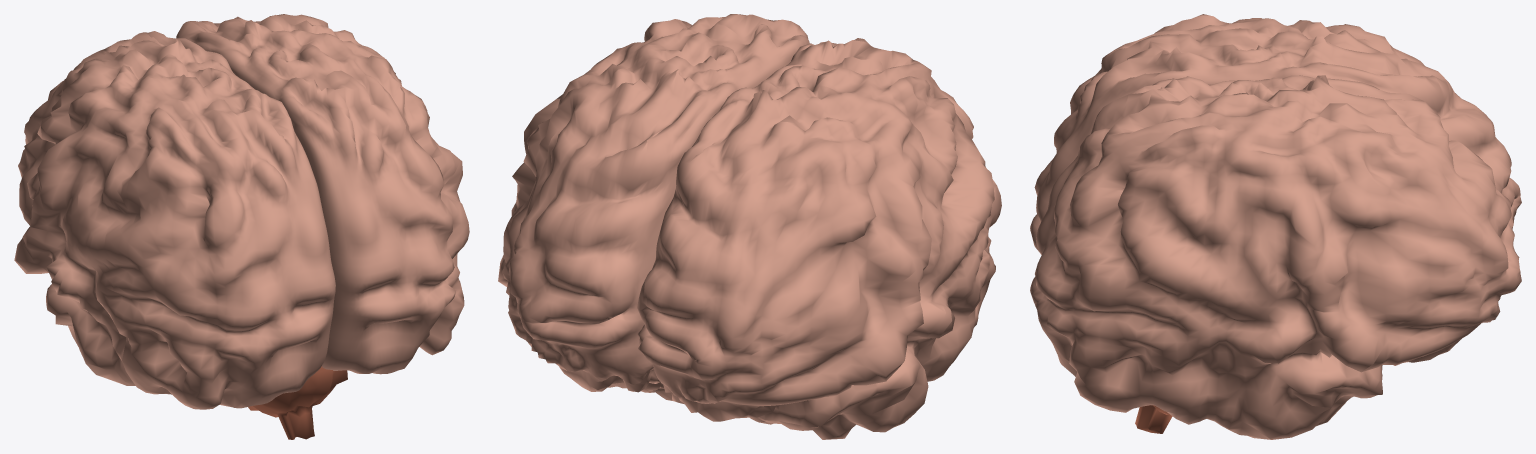
Rendered from Brain.fbx.
3 views of the same model, side by side, from view 1: azimuth 30°, elevation 25°; view 2: azimuth 150°, elevation 25°; view 3: azimuth 270°, elevation 25° (orthographic). The views are drawn at different scales.
Parts seen in each view (by area): view 1: Cube, Sphere; view 2: Cube; view 3: Cube, Sphere.
Part boxes in pixels (<box>): Cube: <box>14,14,469,409</box>; Sphere: <box>248,366,347,439</box>; Cube: <box>498,14,1001,439</box>; Cube: <box>1030,14,1521,439</box>; Sphere: <box>1135,405,1172,433</box>.
Size of the model in its own units: 1.46 by 1.32 by 1.58.
